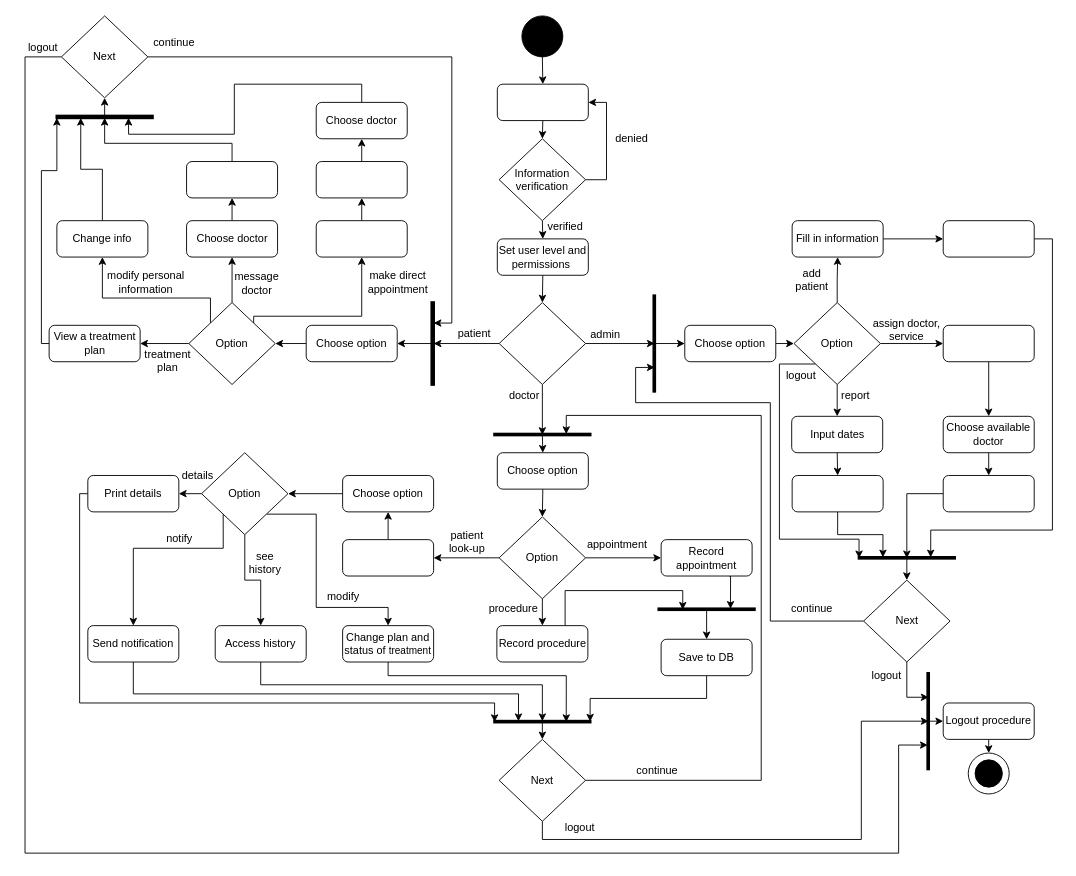
Image size: 1076x876. Some labels were removed from this diagram. The shapes that lost their labels are listed below. From the top down, each one's centre as x and y in pixels, then its label:
At pixel 542 102: "Enter login information".
At pixel 232 179: "Send message".
At pixel 361 179: "Fill info".
At pixel 361 238: "Choose service".
At pixel 988 238: "Save information".
At pixel 542 343: "User type".
At pixel 988 343: "Choose active request".
At pixel 837 493: "Report generation".
At pixel 988 493: "Assign doctor and service".
At pixel 388 557: "Choose patient".
